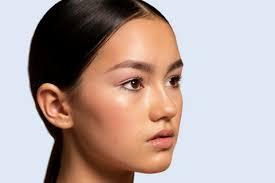Normal-Skin: (124, 40, 176, 173)
